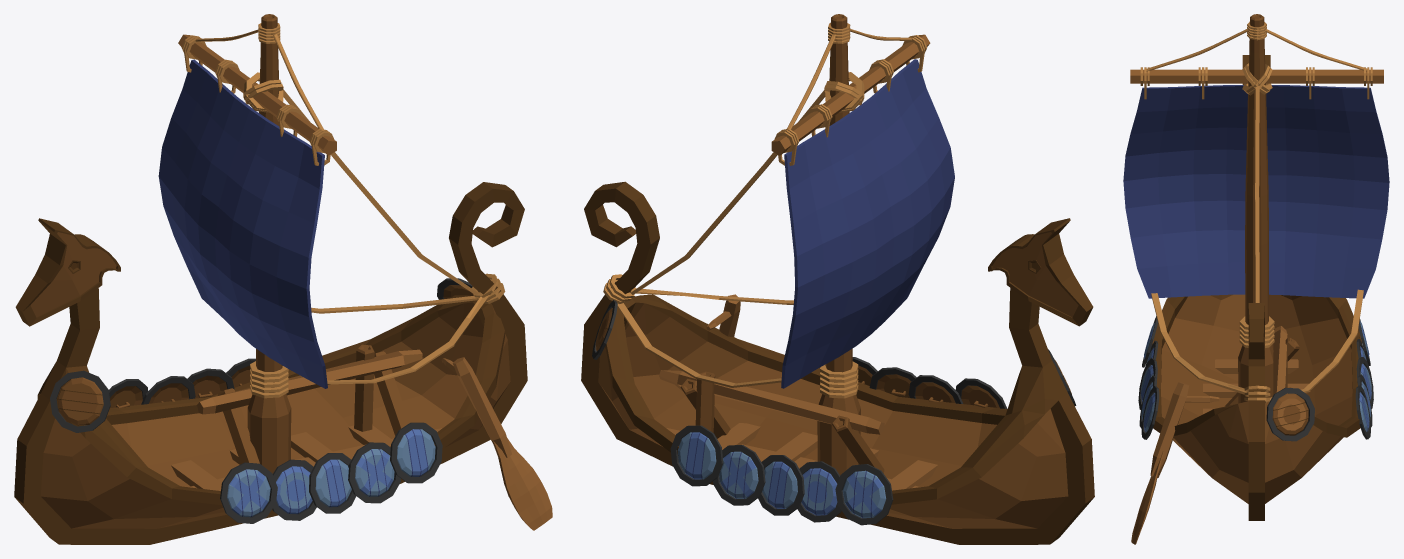
Rendered from D_Galley_Blue.fbx.
3 views of the same model, side by side, from view 1: azimuth 30°, elevation 25°; view 2: azimuth 150°, elevation 25°; view 3: azimuth 270°, elevation 25° (orthographic). The views are drawn at different scales.
Visible parts, largest first — view 1: D_Galley_Blue, D_Galley_Sail_Blue, D_Knarr_A_Oar.003; view 2: D_Galley_Blue, D_Galley_Sail_Blue, D_Knarr_A_Oar.003; view 3: D_Galley_Blue, D_Galley_Sail_Blue, D_Knarr_A_Oar.003.
Part boxes in pixels (x1=…): D_Galley_Blue: x1=14, y1=14, x2=527, y2=544; D_Galley_Sail_Blue: x1=158, y1=59, x2=327, y2=388; D_Knarr_A_Oar.003: x1=441, y1=357, x2=552, y2=530; D_Galley_Blue: x1=581, y1=14, x2=1094, y2=544; D_Galley_Sail_Blue: x1=781, y1=59, x2=954, y2=388; D_Knarr_A_Oar.003: x1=706, y1=294, x2=740, y2=336; D_Galley_Blue: x1=1130, y1=14, x2=1383, y2=520; D_Galley_Sail_Blue: x1=1123, y1=85, x2=1389, y2=298; D_Knarr_A_Oar.003: x1=1131, y1=382, x2=1219, y2=544.
Size of the model in its own units: 1047 by 1009 by 549.
